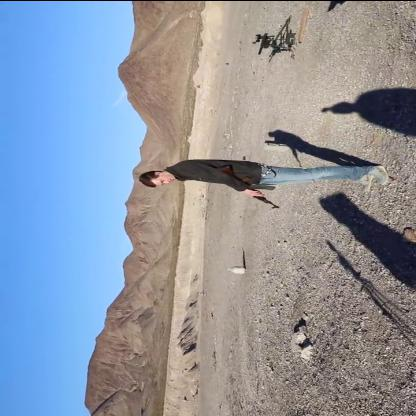long weapon: (214, 164, 282, 214), (239, 24, 294, 60)
